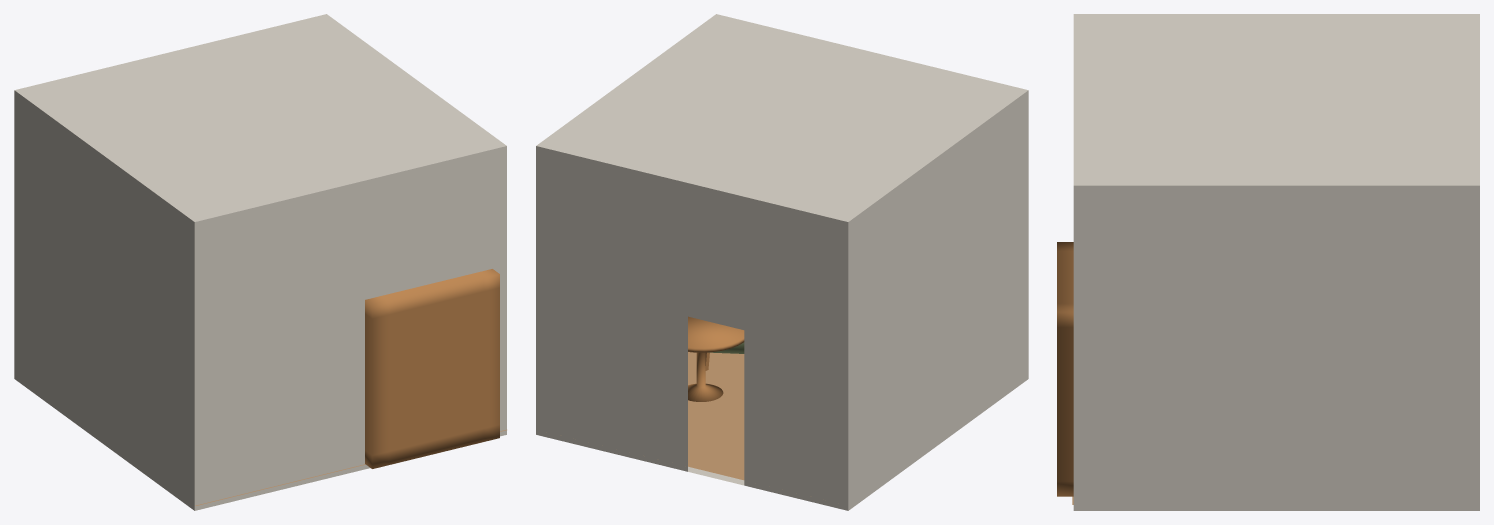
The picture shows the model from 3 angles, left to right: view 1: azimuth 30°, elevation 25°; view 2: azimuth 150°, elevation 25°; view 3: azimuth 270°, elevation 25°; orthographic projection. The views are drawn at different scales.
Parts seen in each view (by area): view 1: Small room, Big Bookshelf; view 2: Small room, Scene, Cylinder; view 3: Small room, Big Bookshelf.
Part boxes in pixels (x1,y1,x2,y2): Small room: (14, 14, 506, 510); Big Bookshelf: (365, 269, 499, 468); Small room: (536, 14, 1028, 510); Scene: (688, 352, 744, 480); Cylinder: (688, 316, 744, 401); Small room: (1073, 14, 1479, 510); Big Bookshelf: (1057, 242, 1073, 496).
Bounding box in the file's own units: 44.33 × 39.18 × 46.14.
